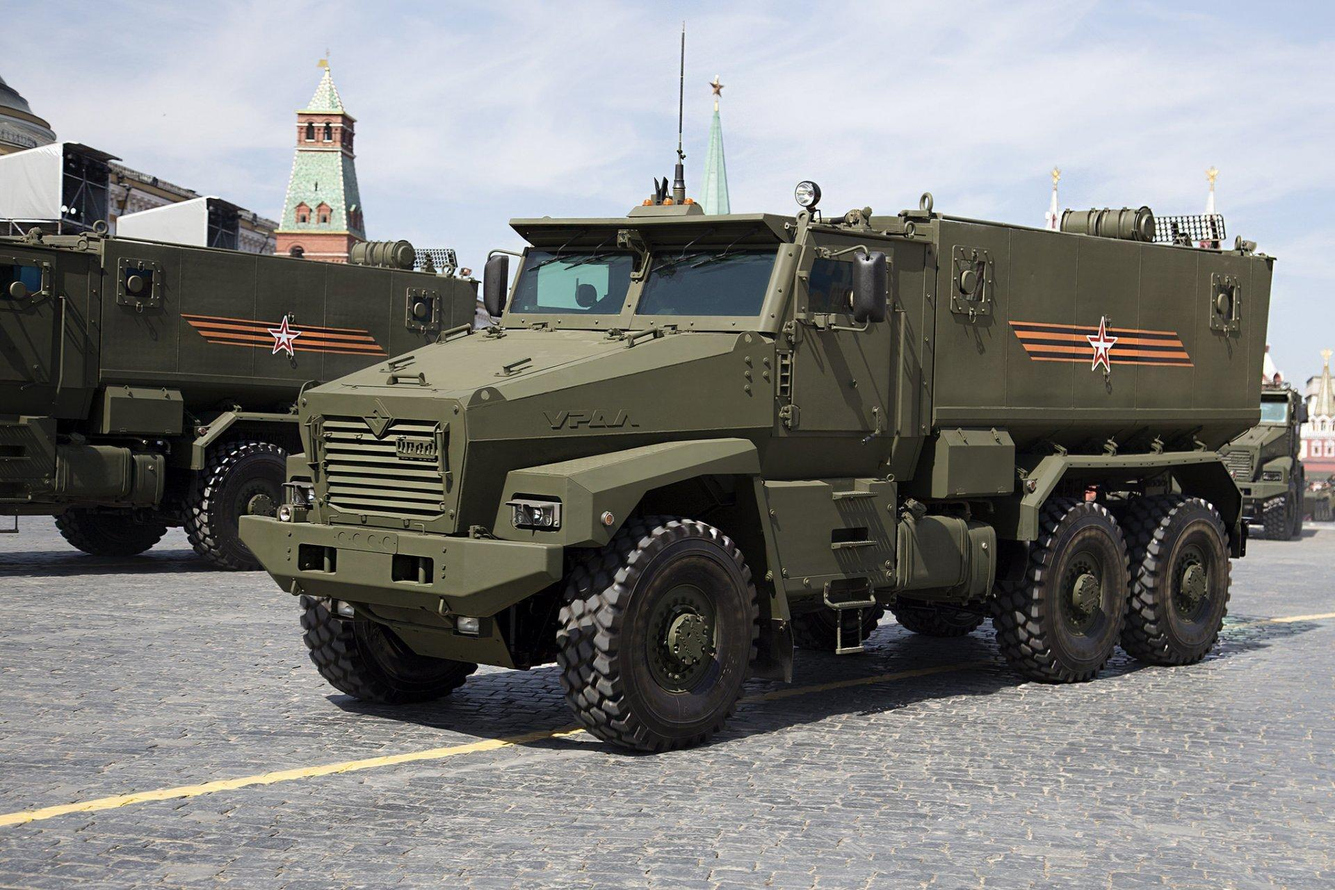truck: (287, 159, 1281, 706), (3, 205, 482, 554), (1224, 380, 1318, 546)
